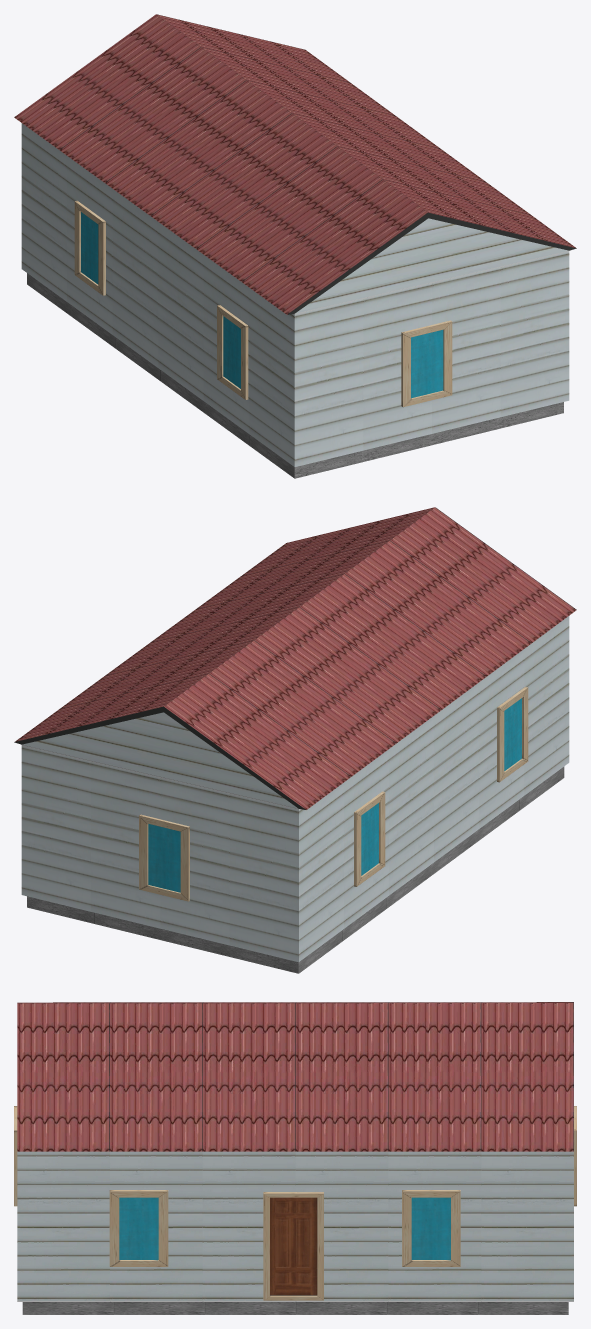
File: Hus2.glb
The picture shows the model from 3 angles, top to bottom: view 1: azimuth 30°, elevation 25°; view 2: azimuth 150°, elevation 25°; view 3: azimuth 270°, elevation 25°; orthographic projection. The views are drawn at different scales.
Visible parts, largest first — view 1: Hus2; view 2: Hus2; view 3: Hus2.
Boxes of the visible parts, <box> form: Hus2: <box>14,14,576,478</box>; Hus2: <box>14,507,576,973</box>; Hus2: <box>14,1002,576,1314</box>.
Bounding box in the file's own units: 7.17 × 5.55 × 11.69.
Materials: 1 (1 with a texture image).
